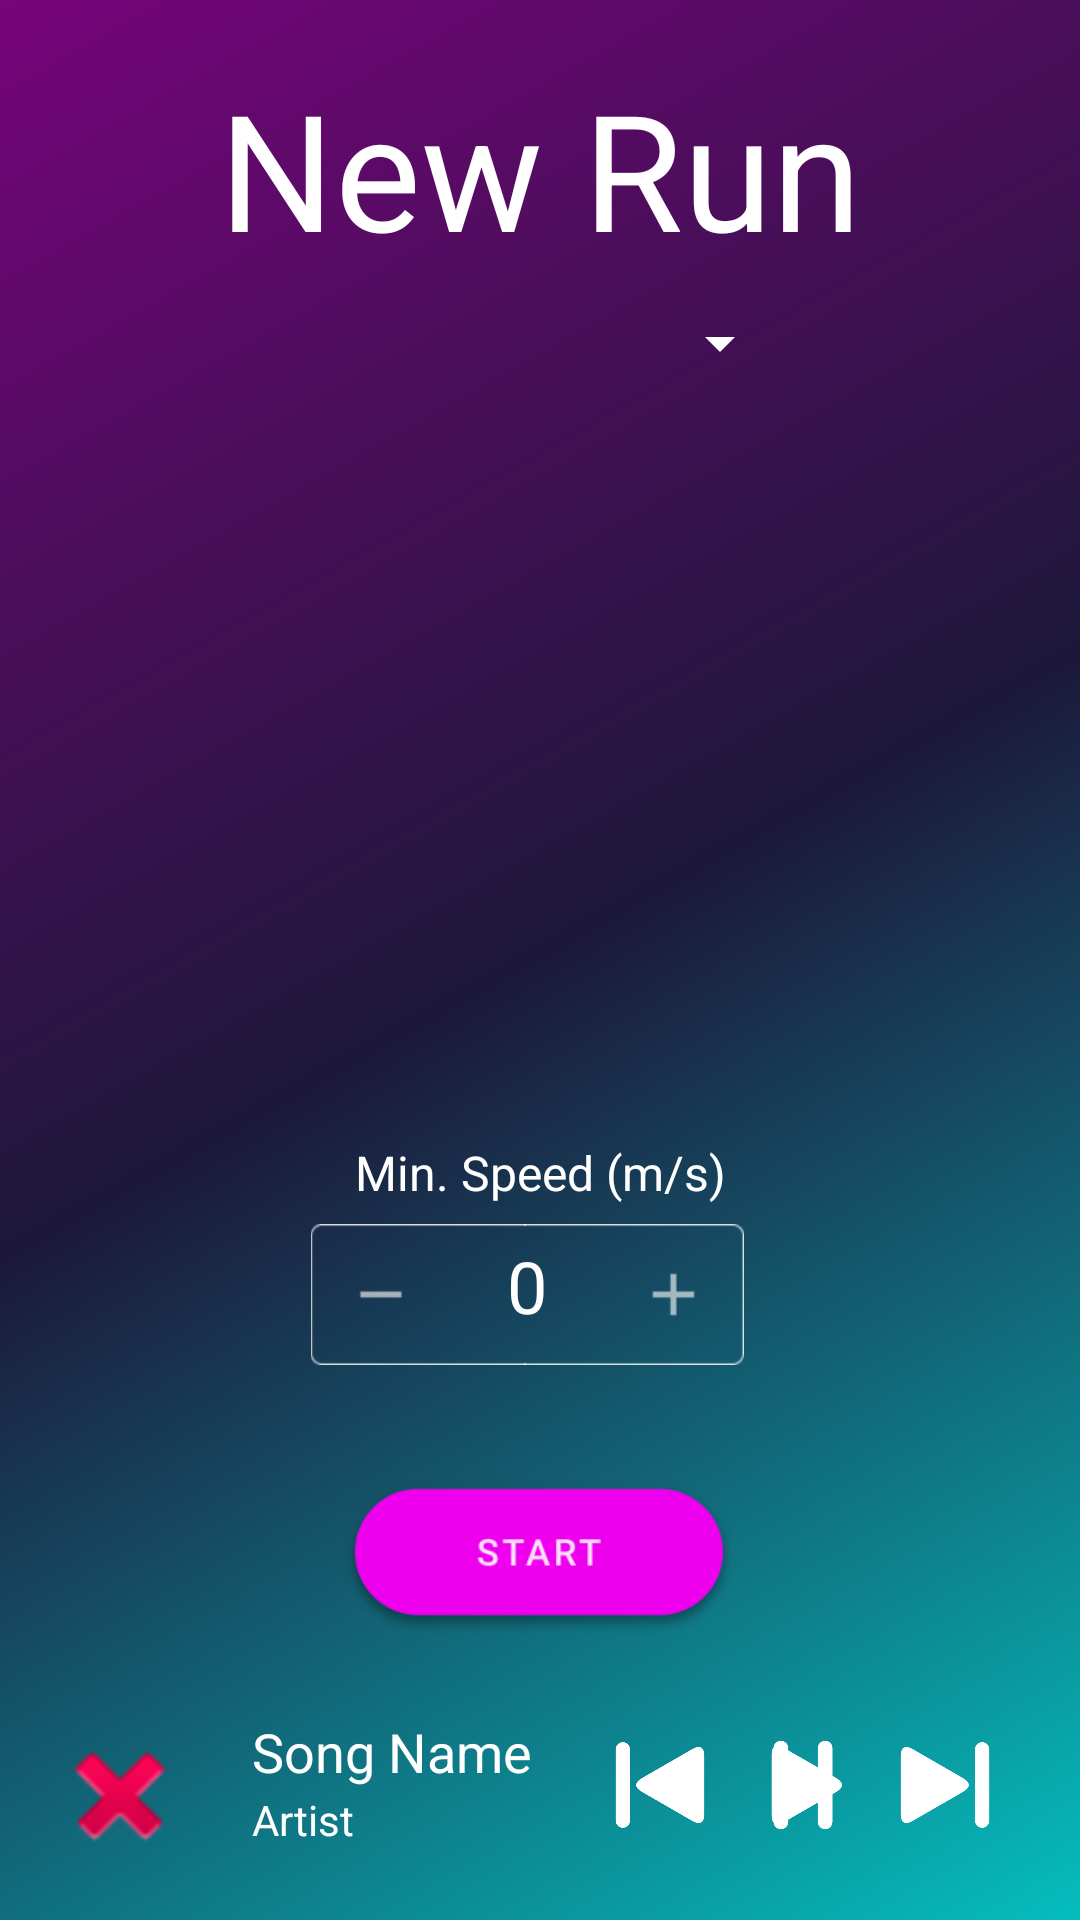

Icon click points for this 1080px×1920px phone screenshot, format (x=x, y=y):
backbtn: (x=660, y=1785)
delete: (x=120, y=1796)
